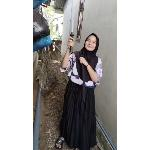Pedang: (68, 0, 76, 52)
